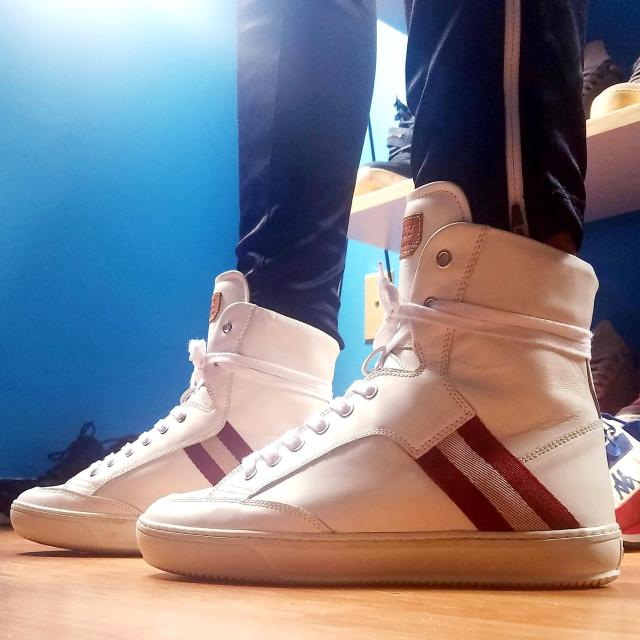shoe: (132, 172, 634, 602), (10, 258, 352, 566)
